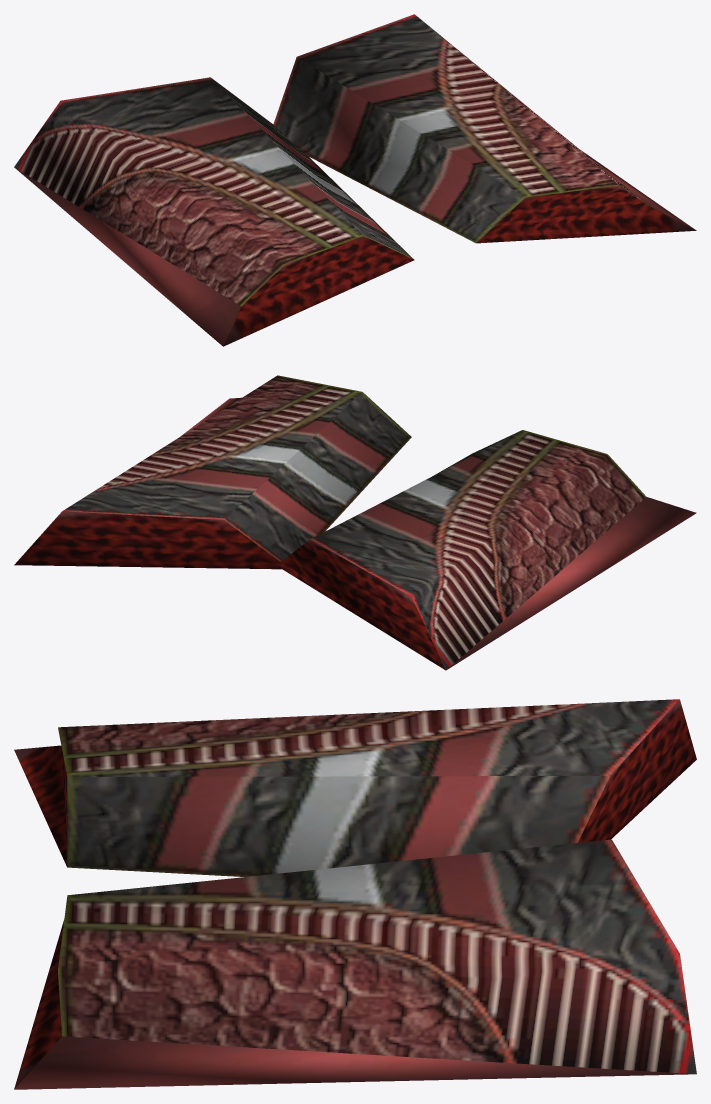
The model's file is LegPads6__BOS.glb.
3 views of the same model, one above another, from view 1: azimuth 30°, elevation 25°; view 2: azimuth 150°, elevation 25°; view 3: azimuth 270°, elevation 25° (orthographic). The views are drawn at different scales.
Visible parts, largest first — view 1: LegPads6; view 2: LegPads6; view 3: LegPads6.
Part boxes in pixels (x1=…): LegPads6: x1=14, y1=14, x2=696, y2=346; LegPads6: x1=14, y1=375, x2=696, y2=670; LegPads6: x1=14, y1=699, x2=696, y2=1089.
Size of the model in its own units: 22.69 by 3.43 by 19.23.
1 material, 1 textured.
